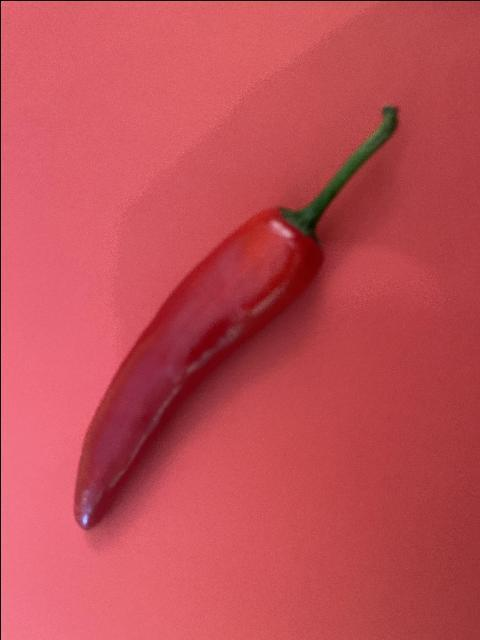chilli: (73, 104, 397, 530)
